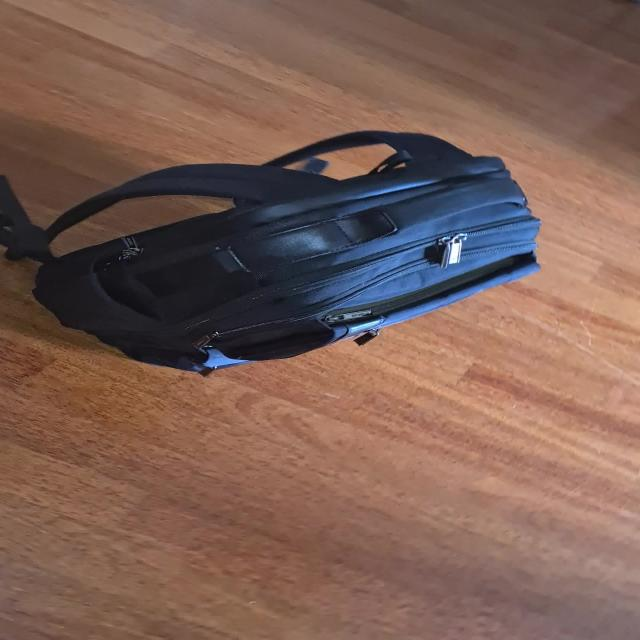backpack: (16, 121, 565, 369)
